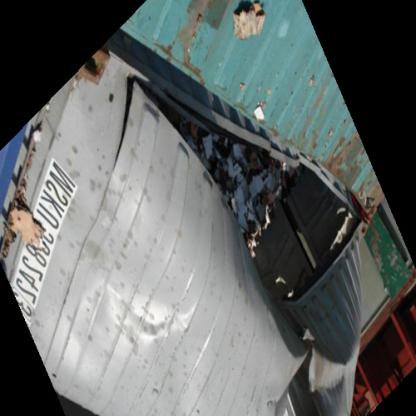Damage: (168, 129, 342, 304), (3, 115, 68, 309)
